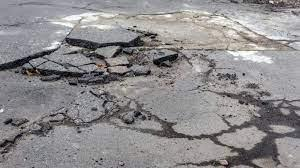pothole: (6, 31, 300, 168)
